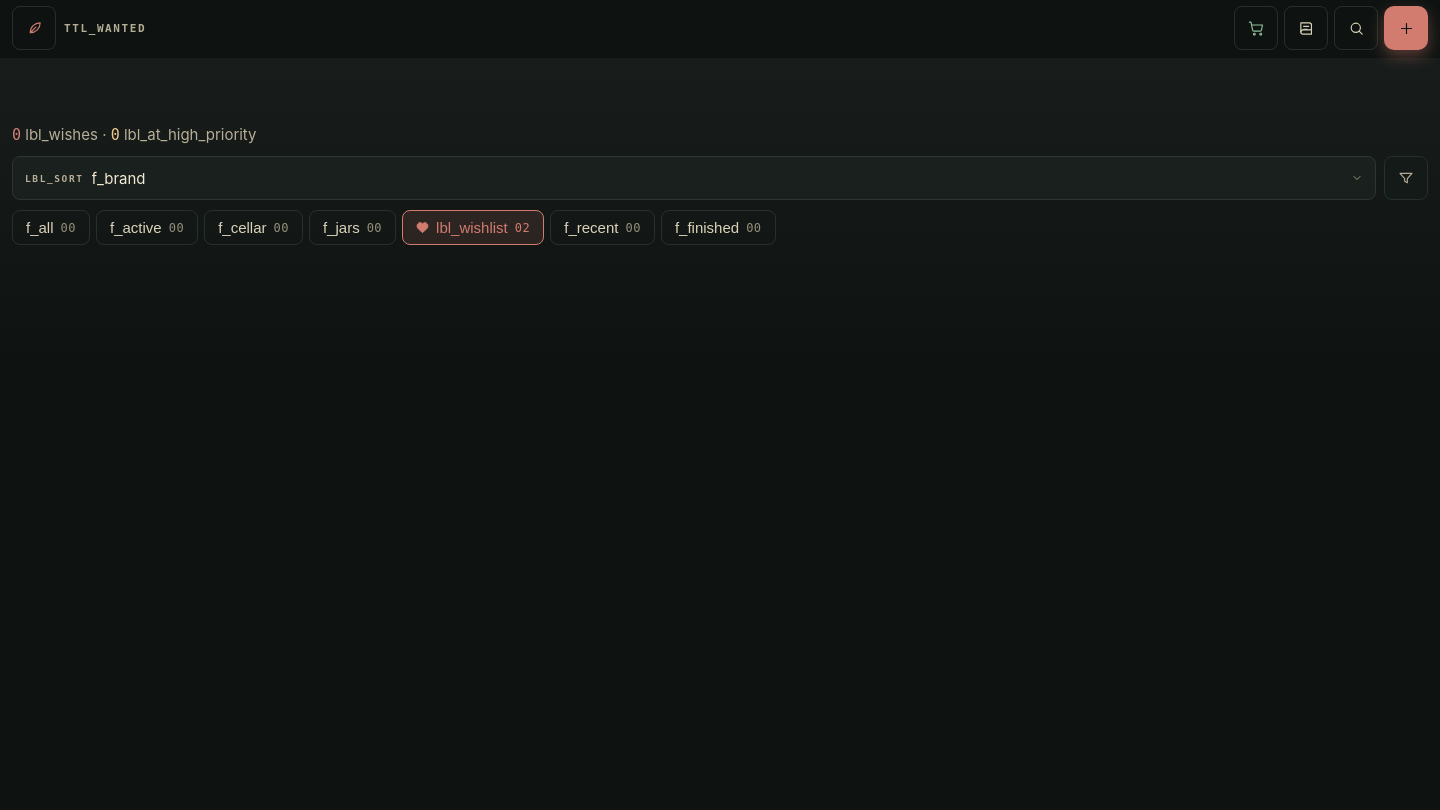
Test case: CuratorInventoryListView — wishlist filters › renders the type/cut dropdowns in wish mode with wishlist-derived options
Click the button named "filters_more" at (1406, 178), box [1384,156,1428,200]
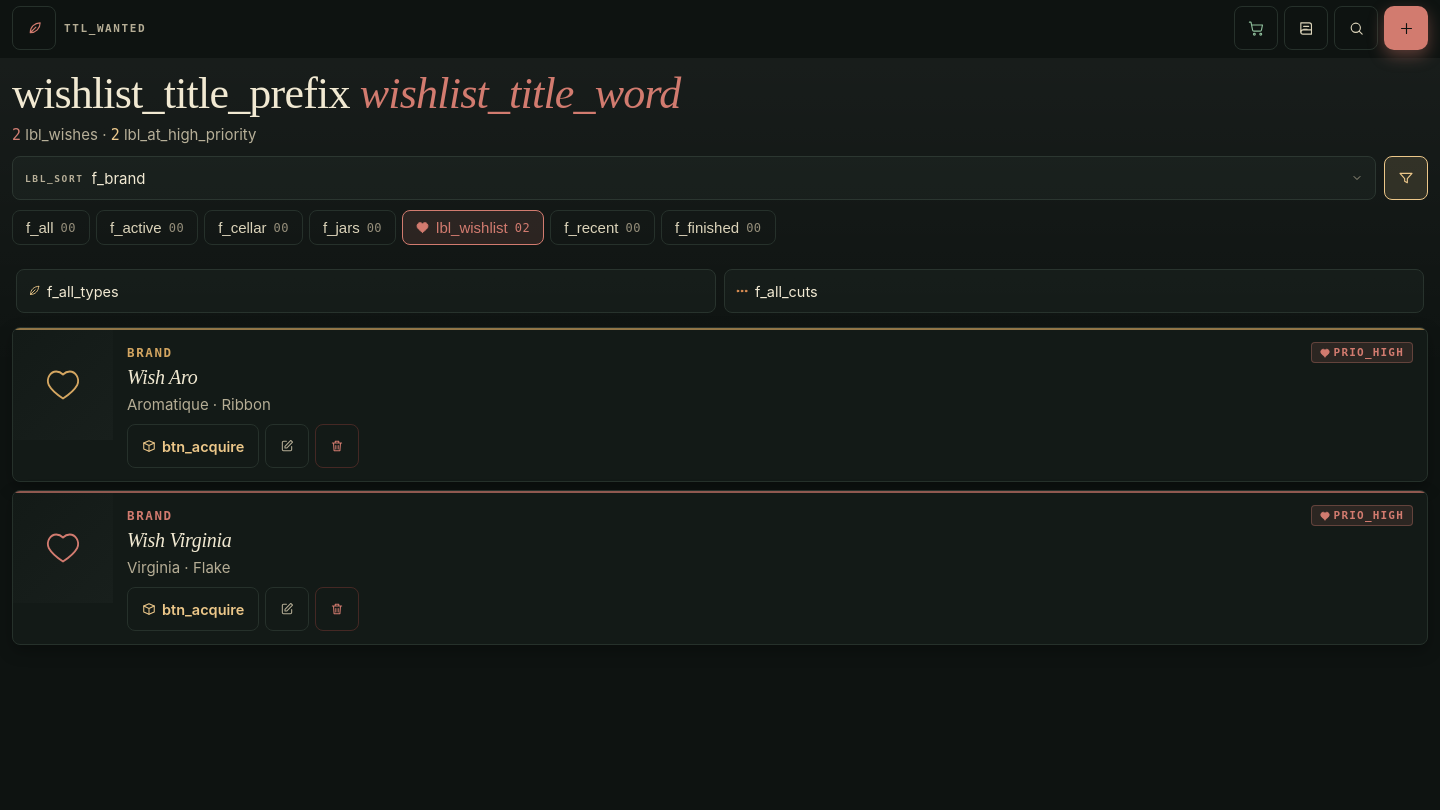
Result: the dropdown named "aria_filter_by_type" is shown at [47,270,705,312]
